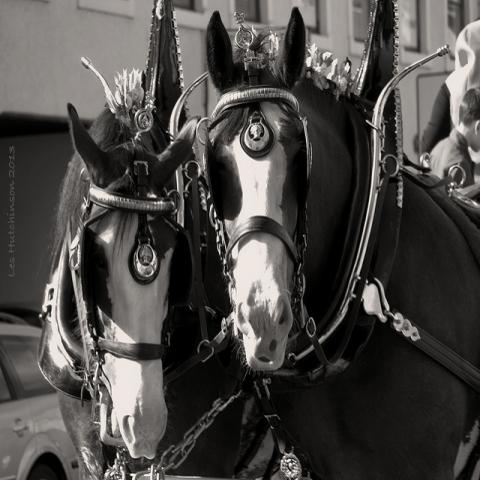car: (1, 319, 82, 475)
